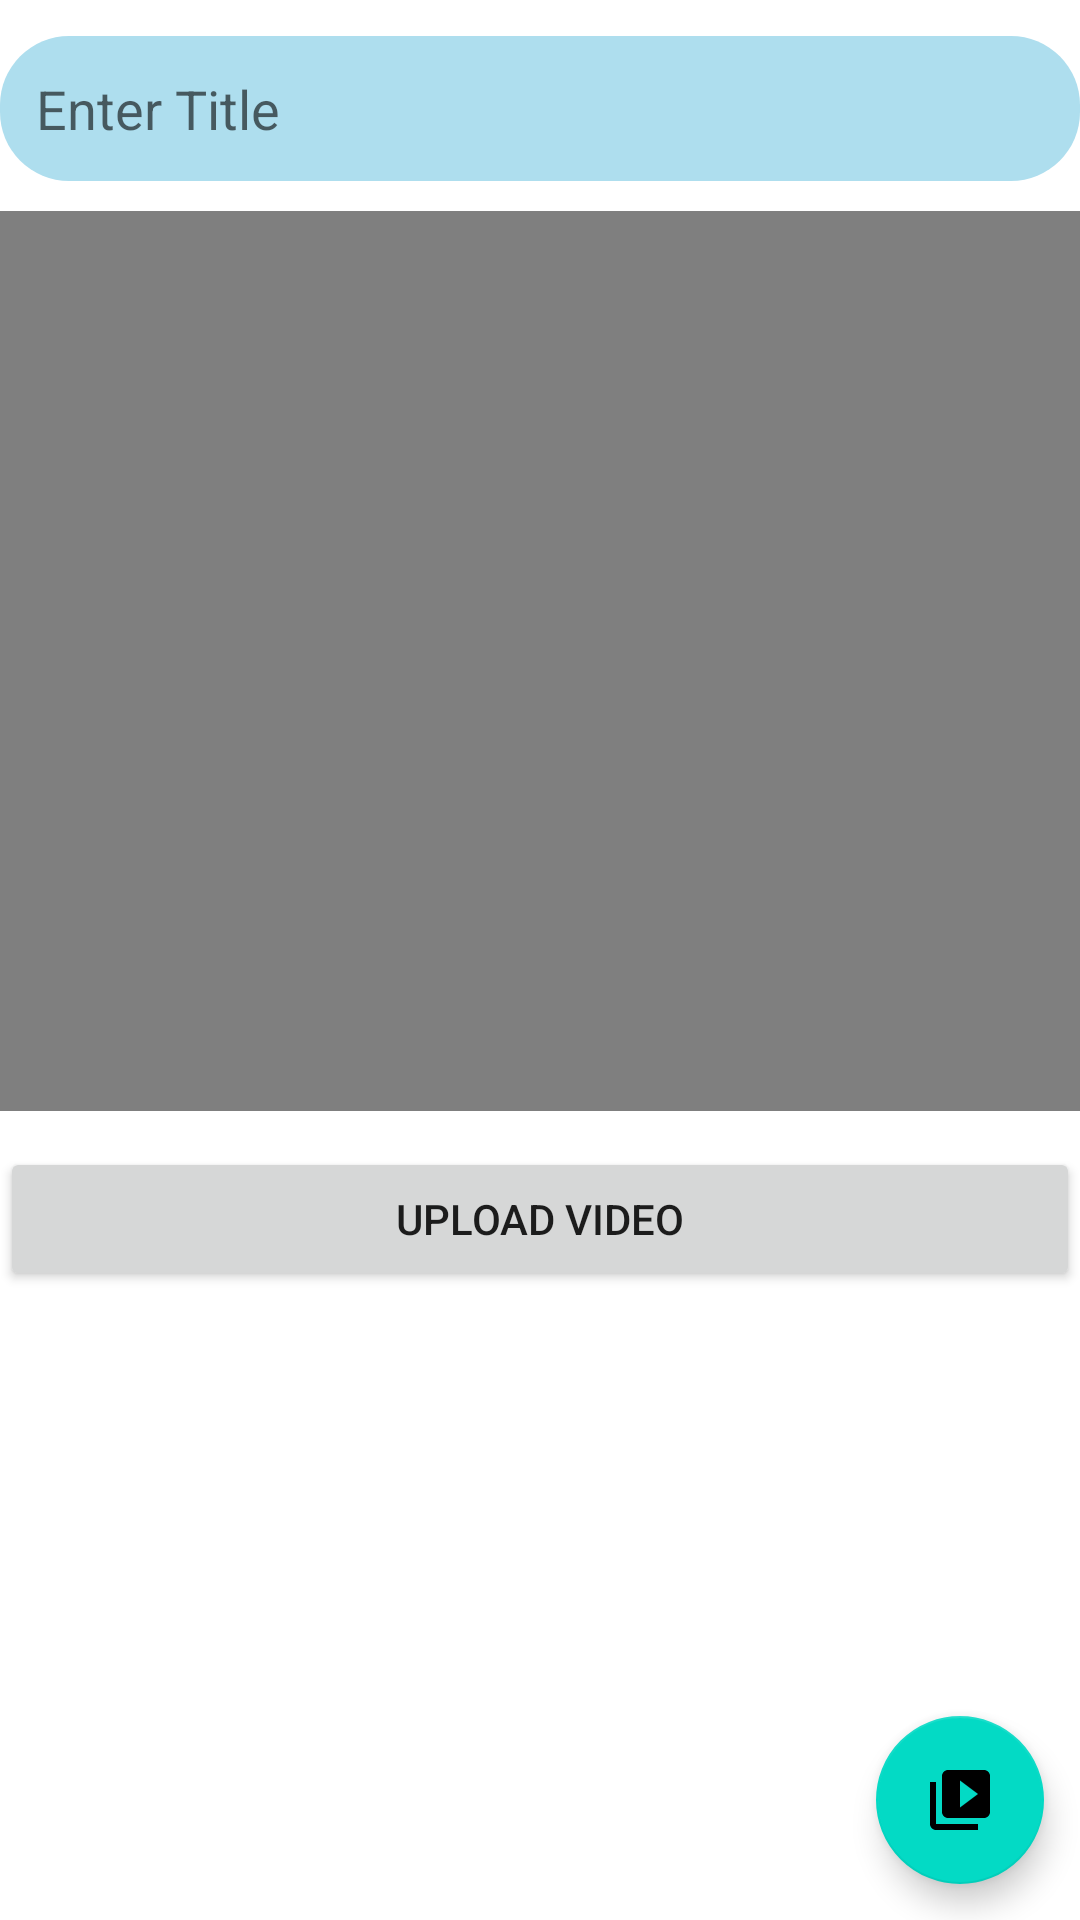

Icons on this 1080 × 1920 Android screen, each with its box as (x1, y1, x2, y2):
video library: (876, 1716, 1044, 1884)
